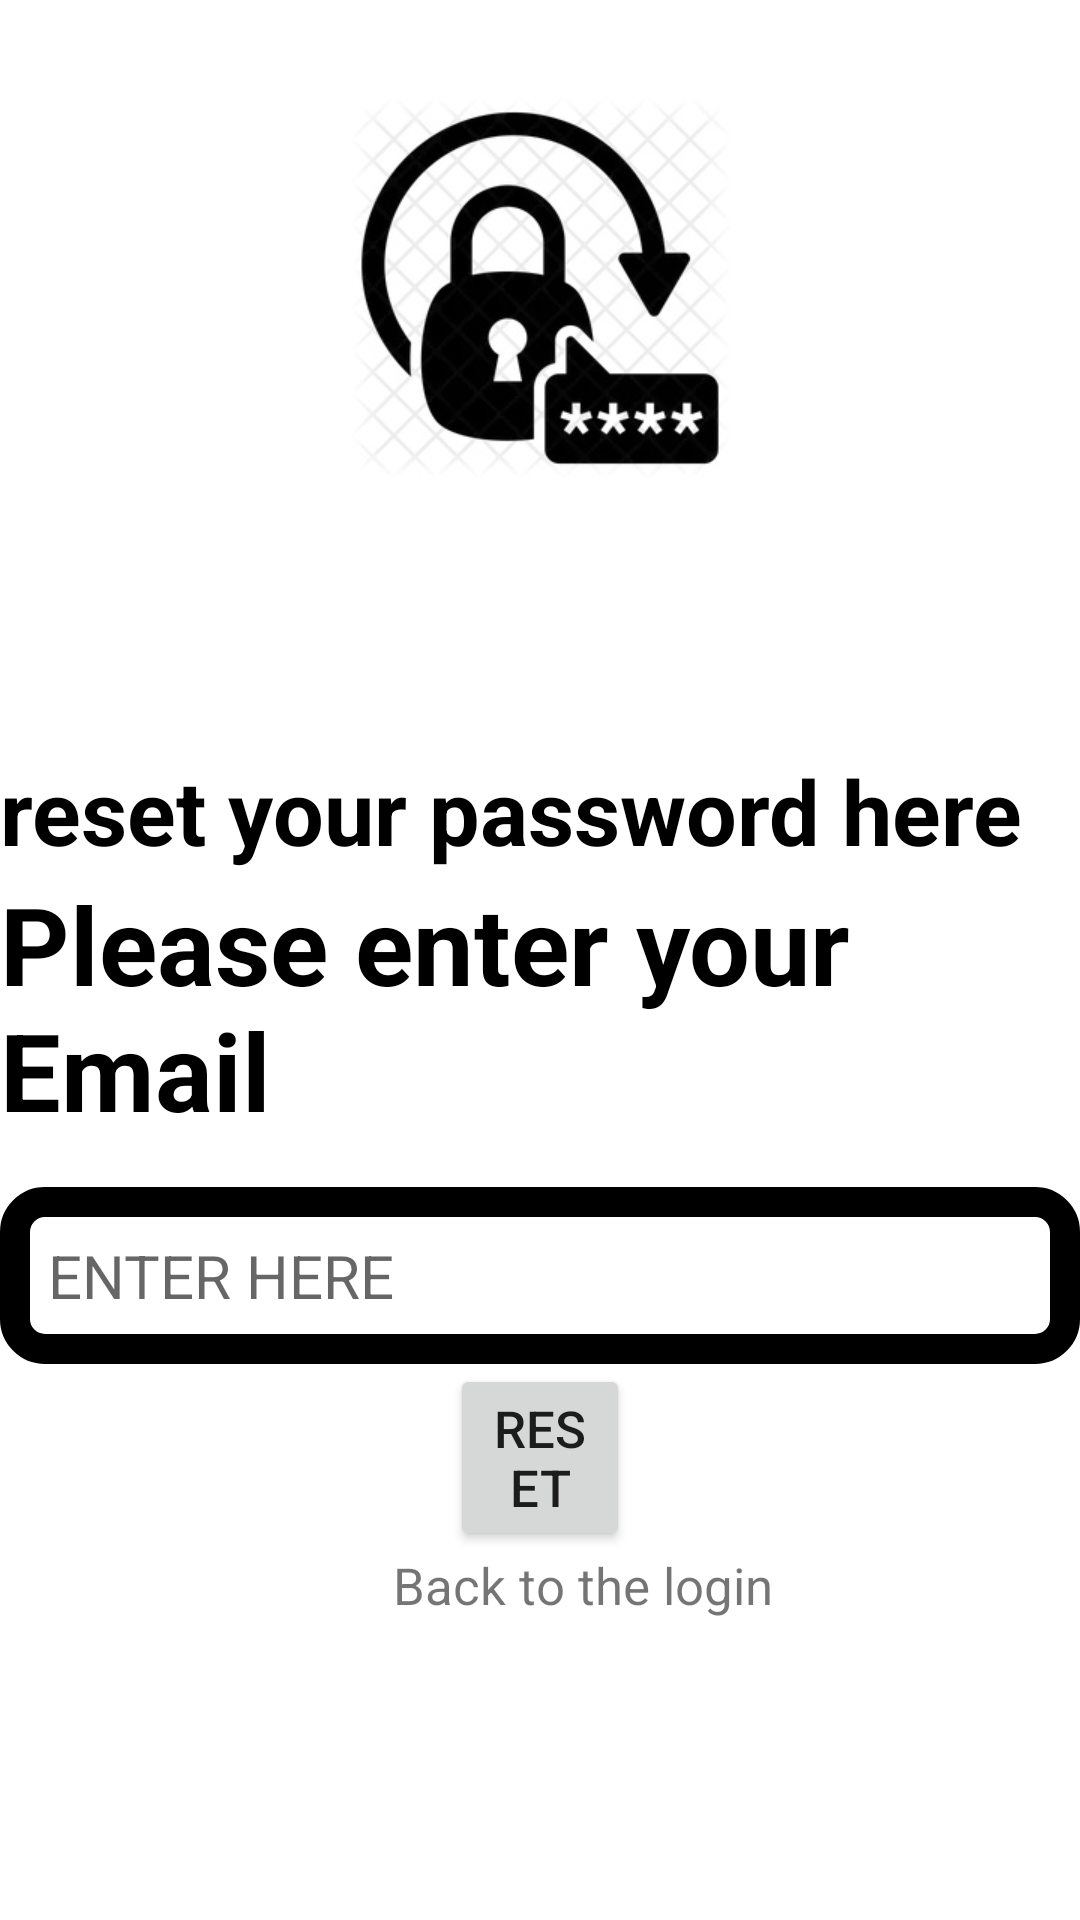

Icons on this 1080px×1920px Android screen, each with its box as [x1, y1, x2, y2]:
resetpass: [361, 112, 719, 465]
